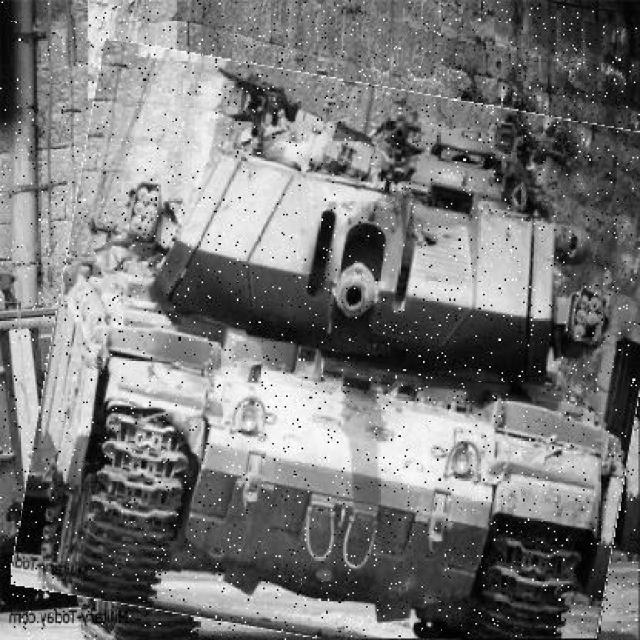Tank: (30, 63, 640, 640)
